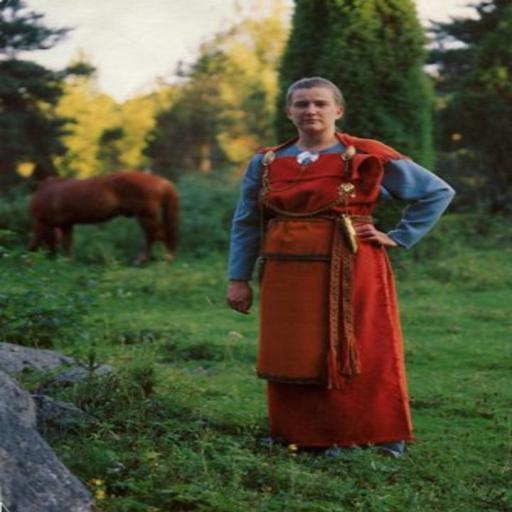horse: (26, 172, 179, 266)
